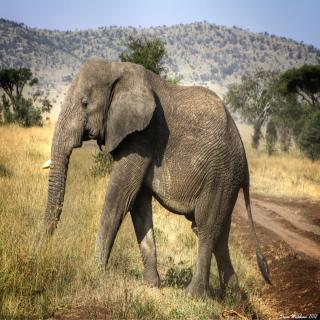Elephant: (42, 56, 276, 302)
